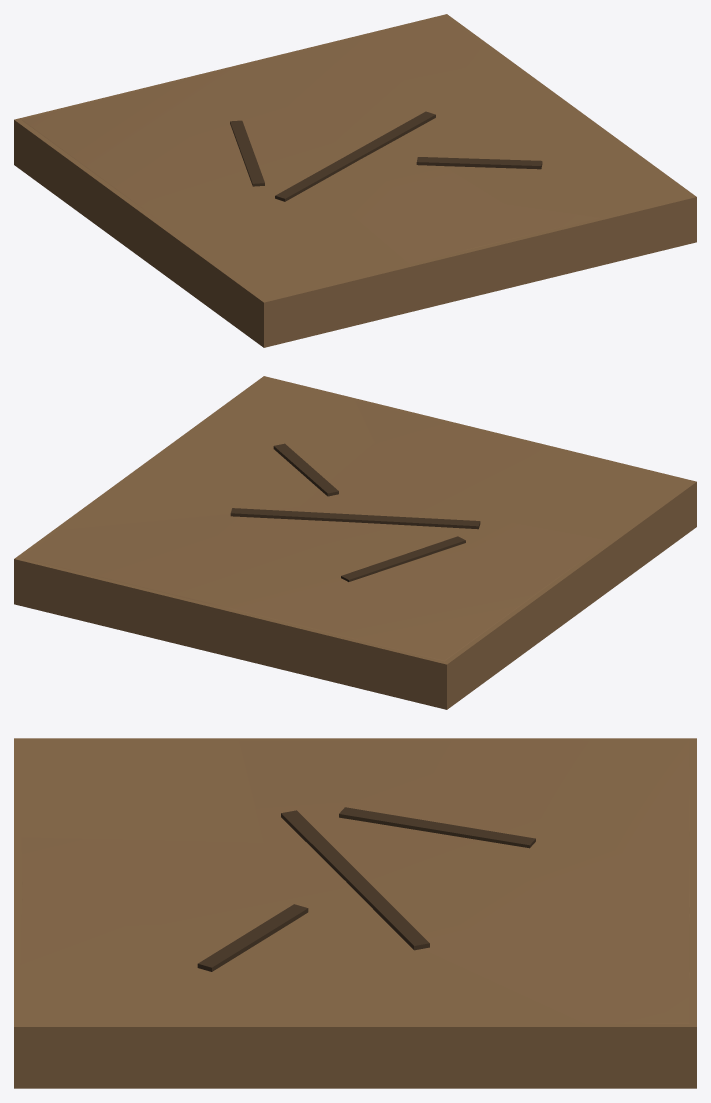
Rendered from stage1_floor_04.glb.
3 views of the same model, one above another, from view 1: azimuth 30°, elevation 25°; view 2: azimuth 150°, elevation 25°; view 3: azimuth 270°, elevation 25° (orthographic). The views are drawn at different scales.
Visible parts, largest first — view 1: stage1_floor_04_dirt, stage1_floor_04_crack; view 2: stage1_floor_04_dirt, stage1_floor_04_crack; view 3: stage1_floor_04_dirt, stage1_floor_04_crack.
Part boxes in pixels (<box>): stage1_floor_04_dirt: <box>14,14,696,347</box>; stage1_floor_04_crack: <box>230,111,542,201</box>; stage1_floor_04_dirt: <box>14,376,696,709</box>; stage1_floor_04_crack: <box>230,443,480,581</box>; stage1_floor_04_dirt: <box>14,738,696,1088</box>; stage1_floor_04_crack: <box>197,807,535,971</box>.
Bounding box in the file's own units: 1 × 0.107 × 1.
